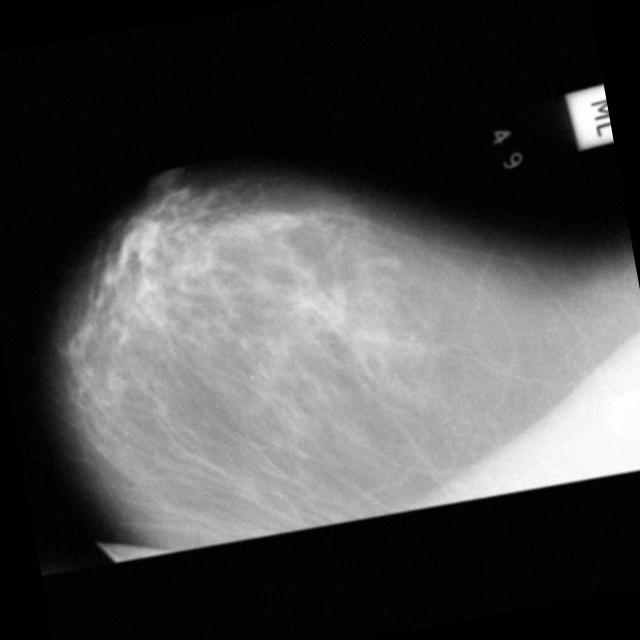ARCH: (278, 260, 366, 348)
